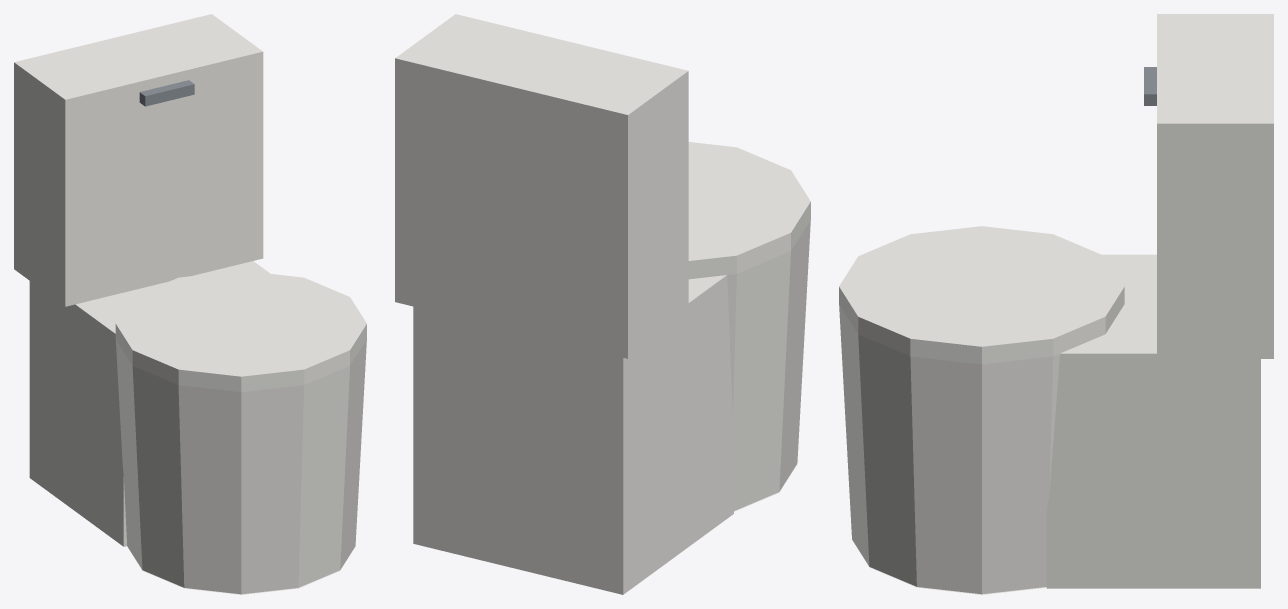
Rendered from Toilet.obj.
3 renders of one model, left to right at view 1: azimuth 30°, elevation 25°; view 2: azimuth 150°, elevation 25°; view 3: azimuth 270°, elevation 25°, orthographic. The views are drawn at different scales.
Visible parts, largest first — view 1: Toilet; view 2: Toilet; view 3: Toilet.
Boxes of the visible parts, left/top/right/bottom form: Toilet: left=14, top=14, right=366, bottom=594; Toilet: left=395, top=14, right=810, bottom=594; Toilet: left=839, top=14, right=1273, bottom=594.
Bounding box in the file's own units: 0.44 × 0.8012 × 0.67.
